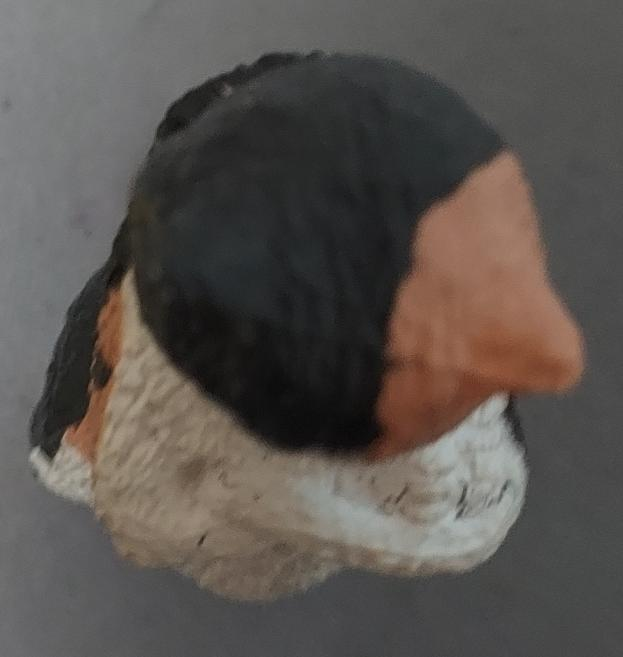cat: (1, 0, 623, 657)
